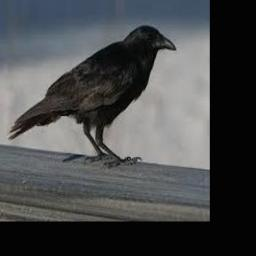Crow: (6, 25, 176, 167)
